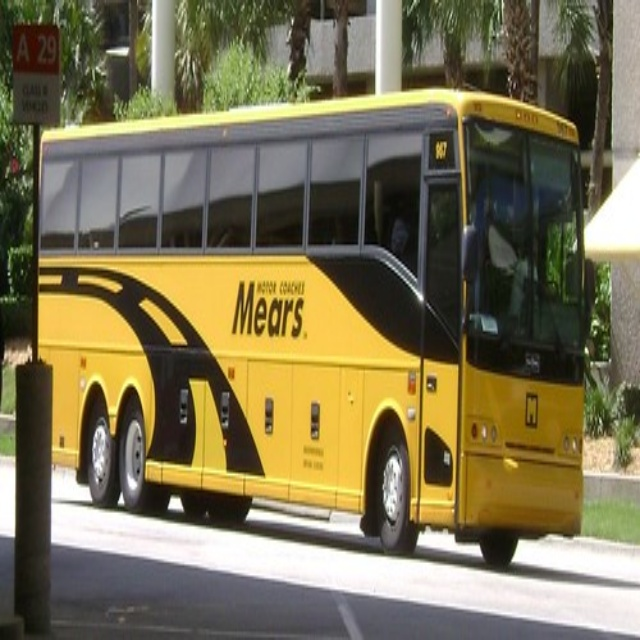Bus: (36, 83, 584, 565)
